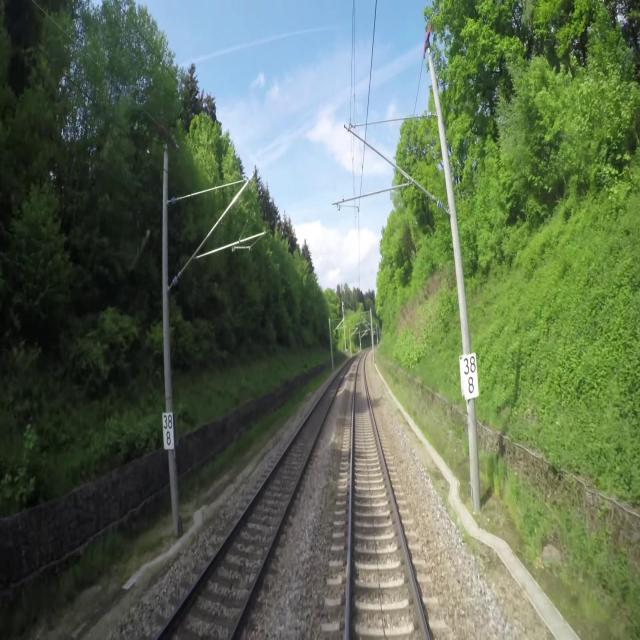rail-track: (159, 370, 344, 639), (350, 357, 424, 639)
